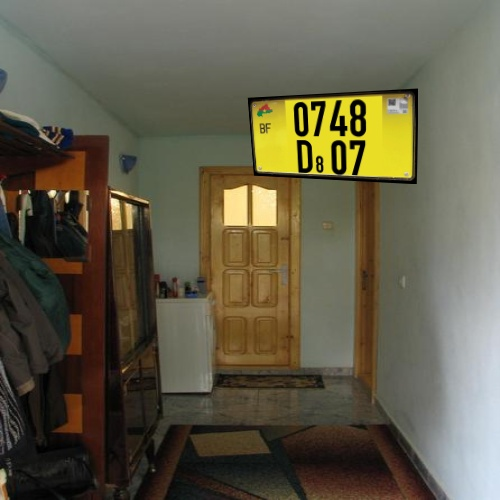plate: (239, 85, 434, 202)
